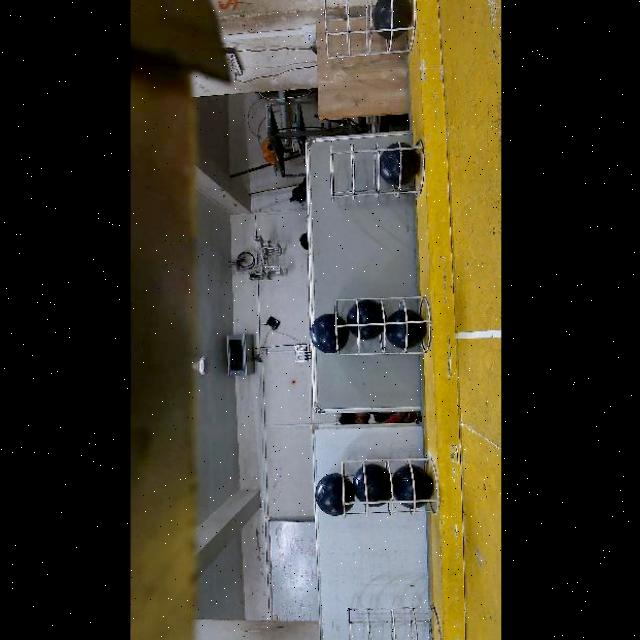P: (392, 465, 433, 508), (314, 475, 355, 516), (380, 143, 419, 185), (352, 465, 391, 506), (372, 0, 411, 40), (387, 310, 425, 349), (346, 300, 383, 340), (310, 314, 348, 352)
S: (339, 453, 436, 521), (332, 293, 434, 357), (328, 142, 427, 202), (324, 0, 421, 58), (343, 602, 441, 640)
